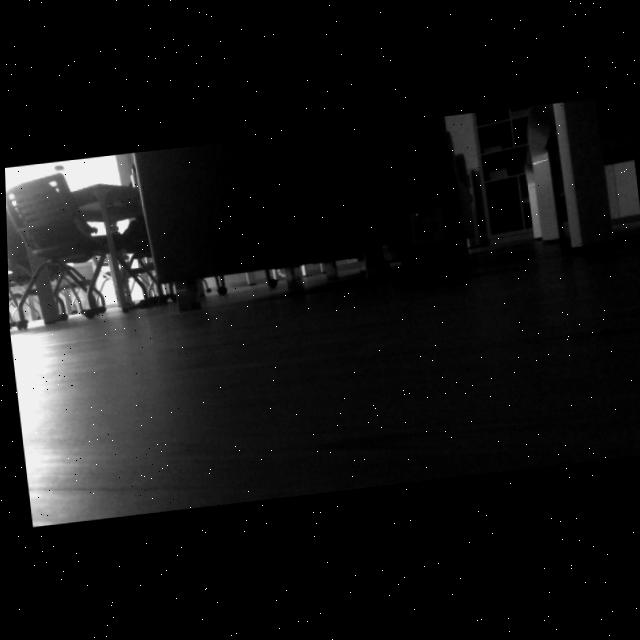G: (414, 214, 435, 241)
